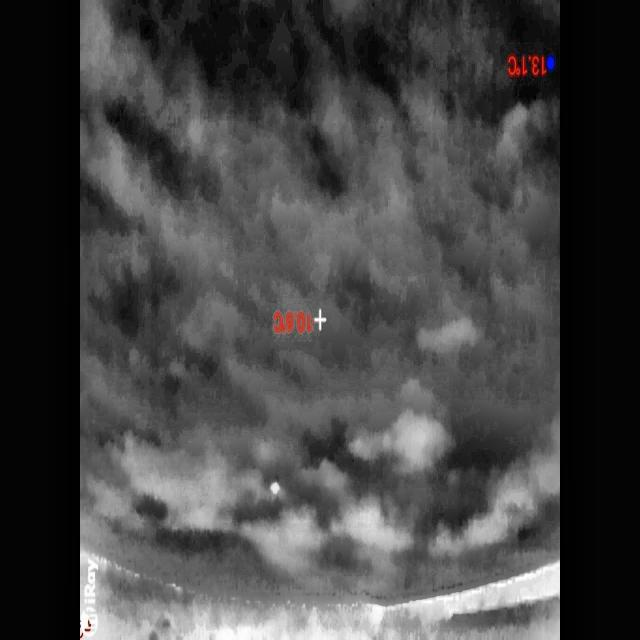drone: (269, 477, 282, 497)
